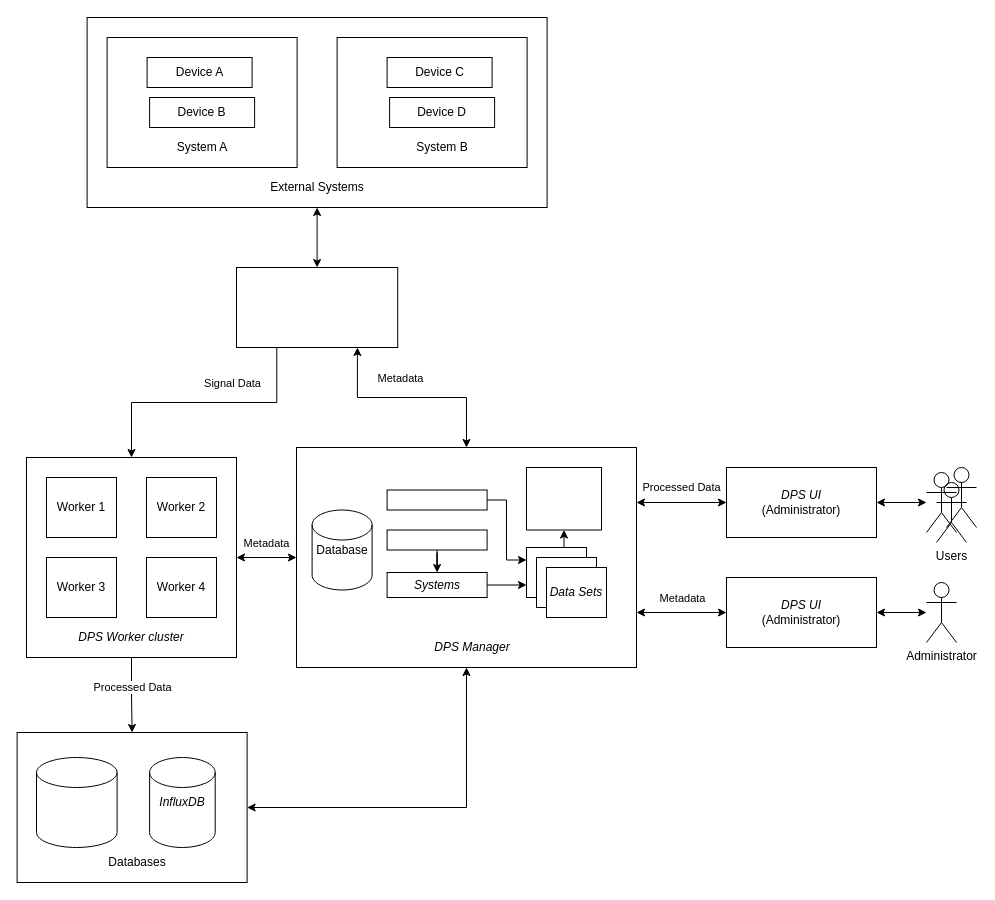
This 995x900 diagram has some shape labels left out. The shapes that lost their labels are listed below. From the top down, each one's centre as x and y in pixels, then its label:
At point (317, 307): "DPS Client".
At point (436, 499): "Data Sources".
At point (564, 498): "Batch Process".
At point (436, 539): "KPIs".
At point (76, 802): "TimescaleDB".
